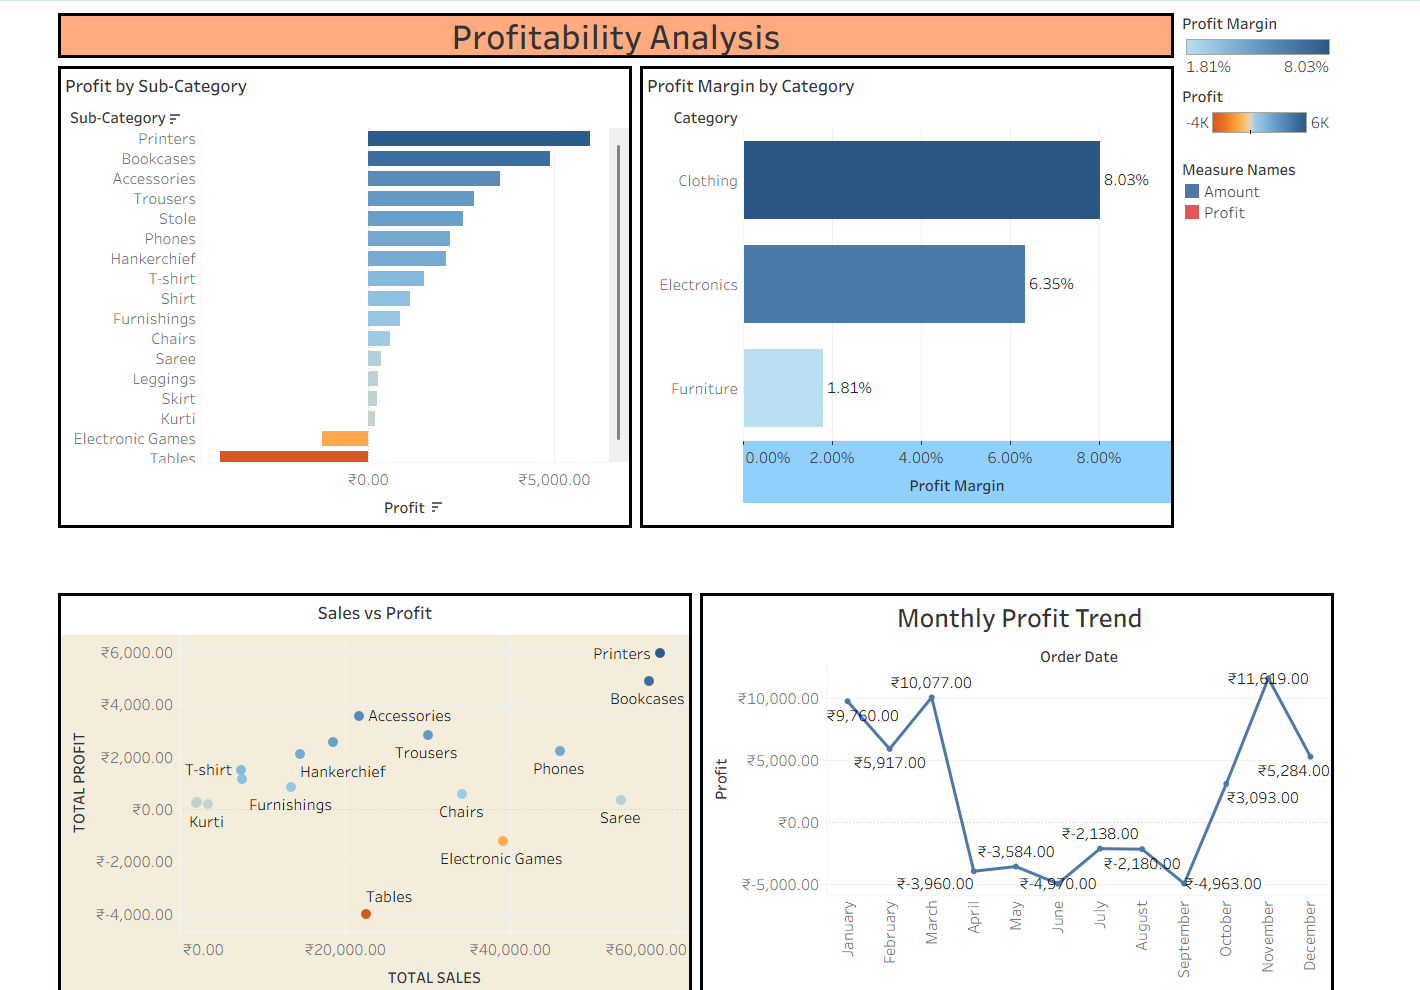

Layout of this report page (visuals, bound fields, positions):
{"tool":"tableau","page":{"name":"Dashboard 3","canvas":[1300,1300],"ordinal":2},"visuals":[{"type":"title","box":[8,8,1124,63]},{"type":"legend","title":"Q8 - Profit Margin by Category","param":"[federated.1nw9gco17u5fsd13iecxl0usdi1p].[usr:Calculation_0158105147482112:qk]","box":[1132,8,160,81]},{"type":"worksheet","title":"Q3 - Profit by Sub-Category","mark":"Automatic","rows":["Sub-Category"],"cols":["Profit"],"box":[8,71,592,482]},{"type":"worksheet","title":"Q8 - Profit Margin by Category","mark":"Bar","rows":["Category"],"cols":["Calculation_0158105147482112"],"box":[600,71,532,482]},{"type":"legend","title":"Q9 - Sales vs Profit","param":"[federated.1nw9gco17u5fsd13iecxl0usdi1p].[sum:Profit:qk]","box":[1132,89,160,81]},{"type":"legend","title":"Q10 - Sales & Profit by Category","param":"[federated.1nw9gco17u5fsd13iecxl0usdi1p].[:Measure Names]","box":[1132,170,160,84]},{"type":"worksheet","title":"Q9 - Sales vs Profit","mark":"Circle","rows":["Profit"],"cols":["Amount"],"box":[8,588.2,642,412.8]},{"type":"worksheet","title":"Q13 — Monthly Profit Trend","mark":"Automatic","rows":["Profit"],"cols":["Order Date"],"box":[650,588.2,642,412.8]},{"type":"worksheet","title":"Q10 - Sales & Profit by Category","mark":"Automatic","rows":["Category"],"cols":["Amount","Profit"],"box":[8,1001,1284,263]}]}

Visuals, with their boxes on the page's 1300x1300 design canvas (x1, y1, x2, y2). These are canvas units, not pixel positions in the 1420x990 screenshot, which may show the page scaled, cropped or inside an application window:
title: [8, 8, 1132, 71]
"Q8 - Profit Margin by Category" legend: [1132, 8, 1292, 89]
"Q3 - Profit by Sub-Category" worksheet: [8, 71, 600, 553]
"Q8 - Profit Margin by Category" worksheet (Bar marks): [600, 71, 1132, 553]
"Q9 - Sales vs Profit" legend: [1132, 89, 1292, 170]
"Q10 - Sales & Profit by Category" legend: [1132, 170, 1292, 254]
"Q9 - Sales vs Profit" worksheet (Circle marks): [8, 588, 650, 1001]
"Q13 — Monthly Profit Trend" worksheet: [650, 588, 1292, 1001]
"Q10 - Sales & Profit by Category" worksheet: [8, 1001, 1292, 1264]
